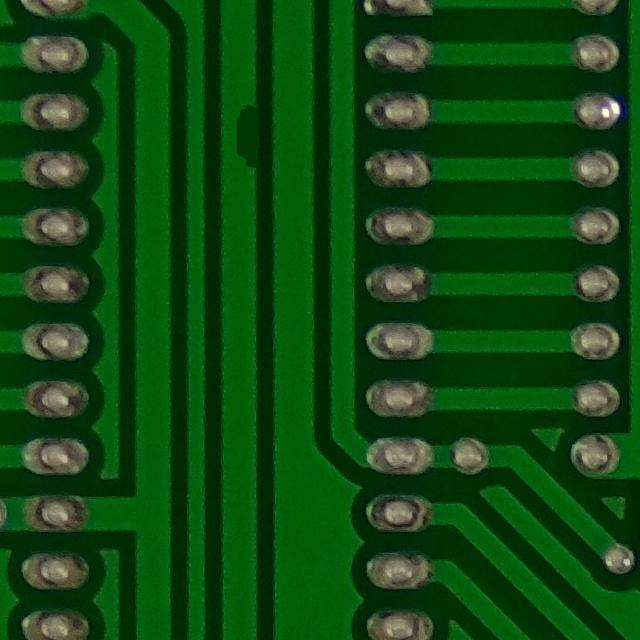mouse_bite: (211, 92, 270, 189)
